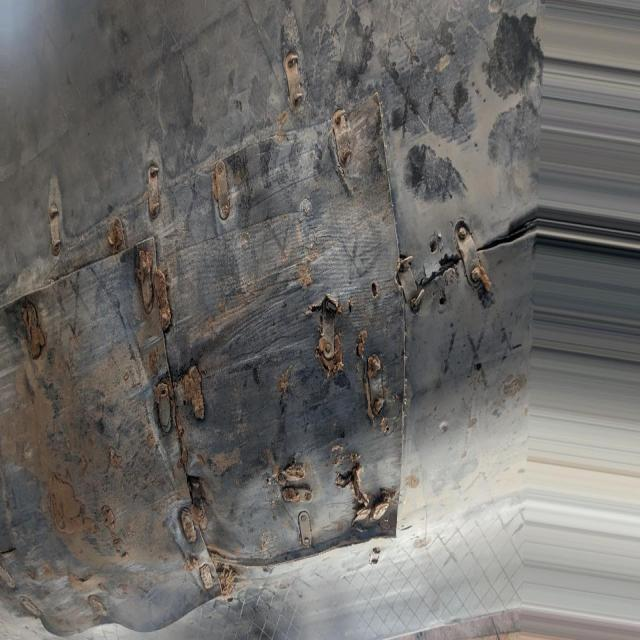patch work: (0, 50, 532, 636)
